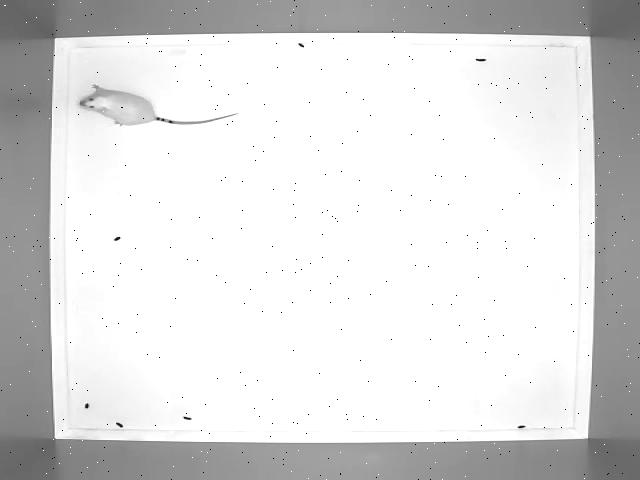Tikus: (76, 80, 236, 136)
